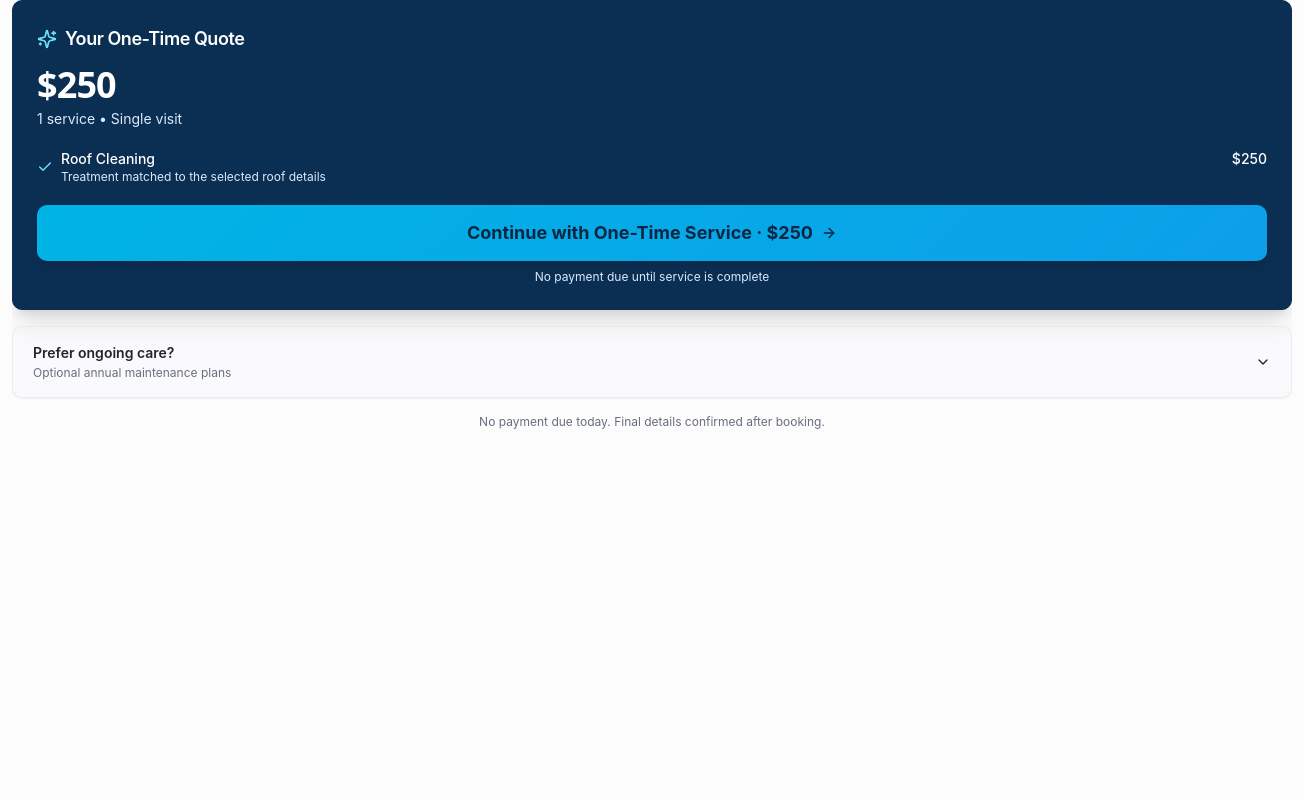
it: PlanUpsellCard — fail-closed plan behavior › shows a loading indicator (not $0) while the server recalculates
Click the button with test id "plans-toggle". click: (104, 352)
box: 13,327 -> 1291,397
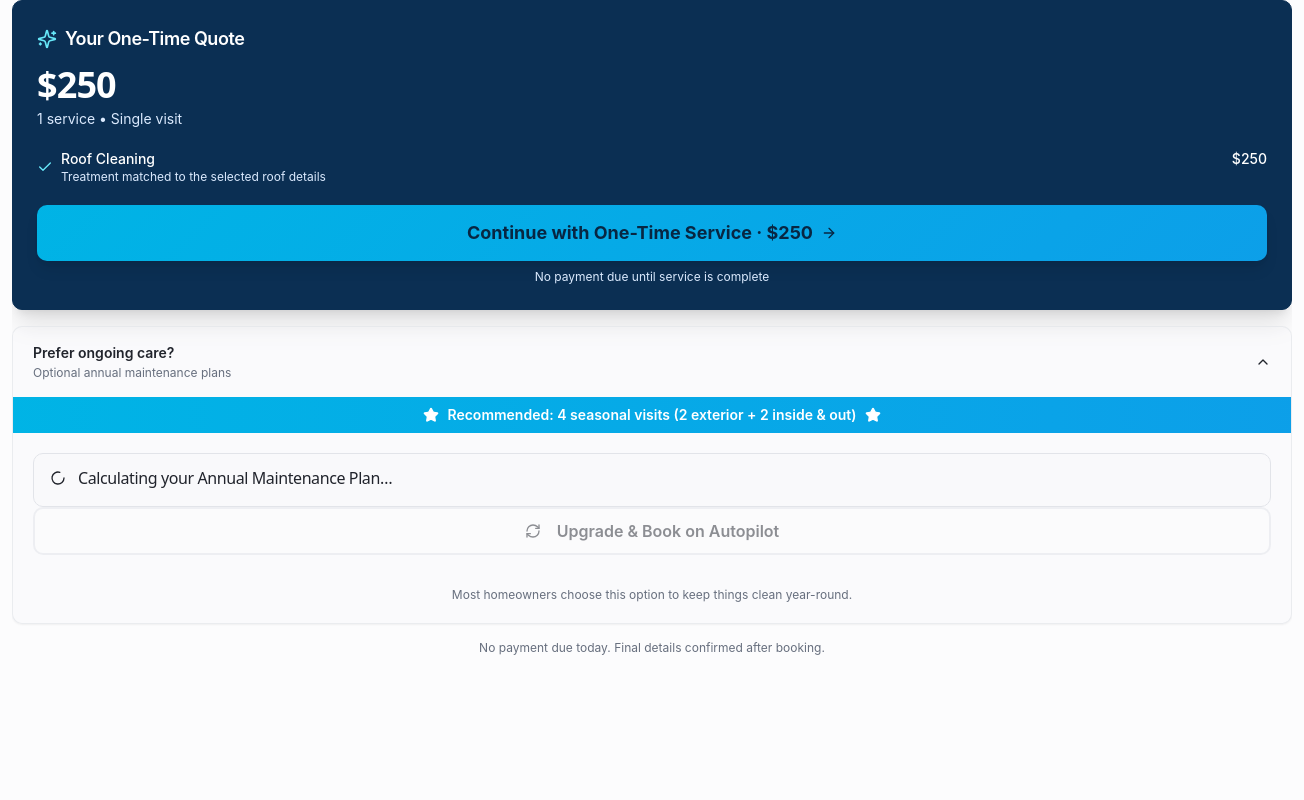
Now the message "Calculating your Annual Maintenance Plan…" is shown, box 33,453 -> 1271,507
Now the button with test id "plan-upgrade-cta" is disabled, box 33,507 -> 1271,555
